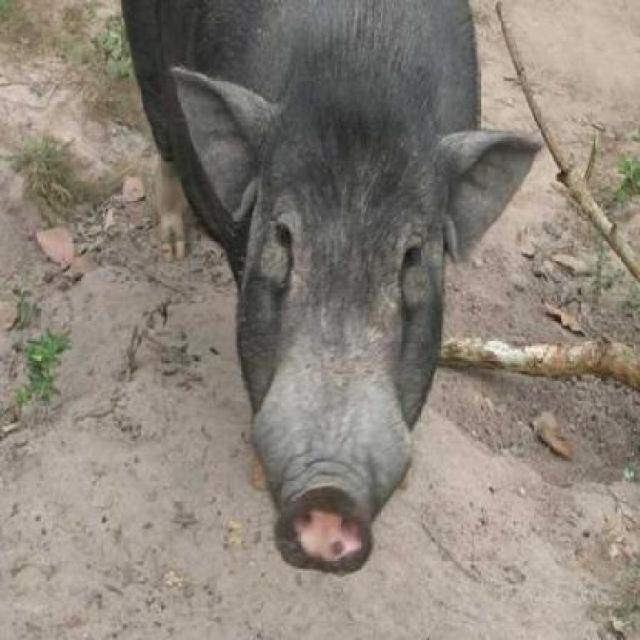Boar: (105, 0, 523, 551)
